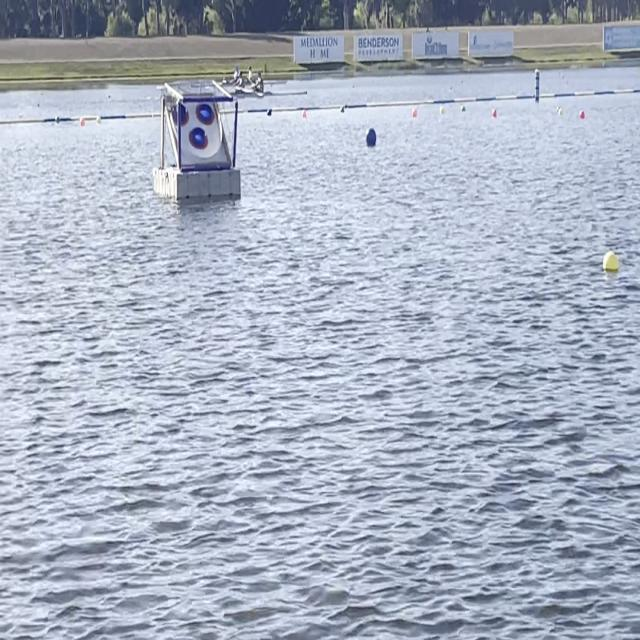buoy: (600, 248, 622, 274), (366, 128, 378, 148), (77, 116, 86, 129), (300, 106, 308, 120), (266, 106, 274, 118), (95, 113, 102, 126), (556, 108, 564, 119), (491, 106, 498, 118), (579, 108, 585, 120), (439, 106, 446, 116), (412, 105, 417, 116), (460, 104, 466, 113)
